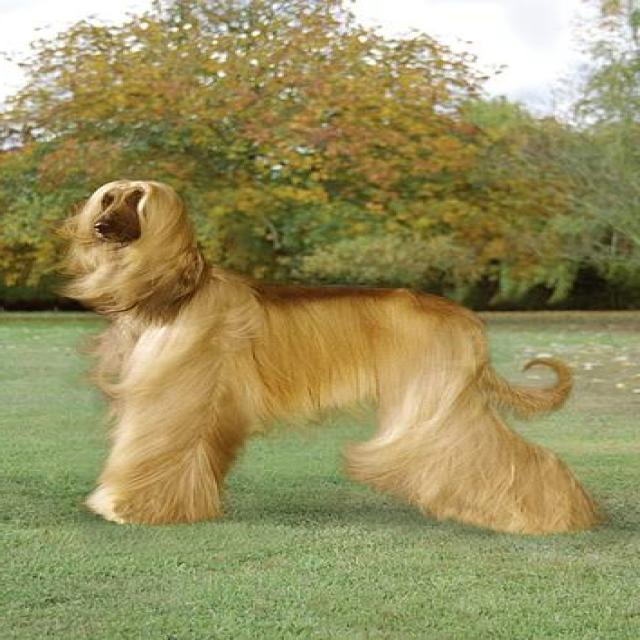afghan_hound: (70, 182, 594, 532)
